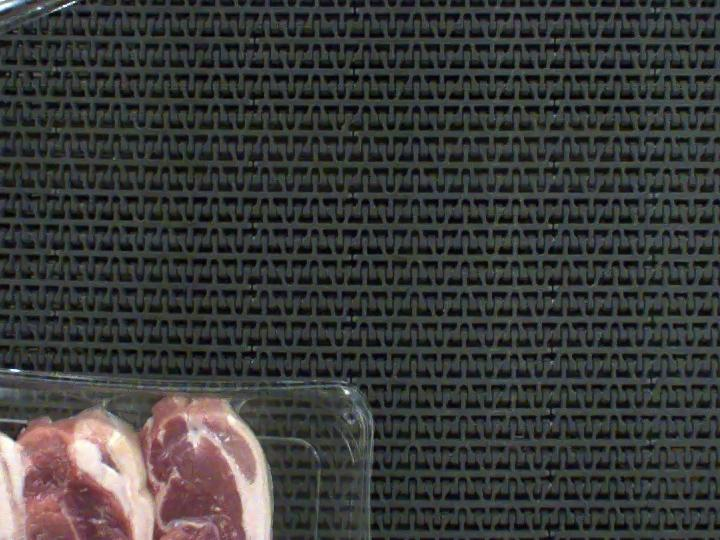packaging-error: (73, 357, 313, 460)
